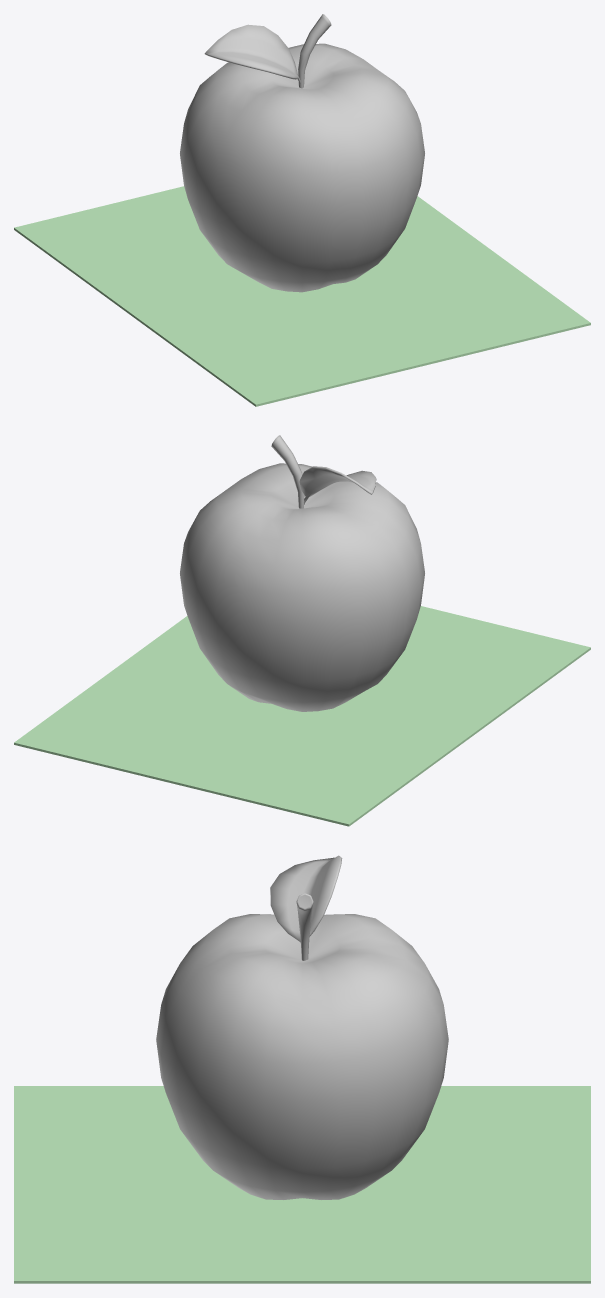
File: prot.fbx
3 renders of one model, top to bottom at view 1: azimuth 30°, elevation 25°; view 2: azimuth 150°, elevation 25°; view 3: azimuth 270°, elevation 25°, orthographic. The views are drawn at different scales.
Parts seen in each view (by area): view 1: 0 dodai, Apple; view 2: 0 dodai, Apple; view 3: 0 dodai, Apple.
Part boxes in pixels (box(x1,y1,x2,y2)): 0 dodai: box(14, 186, 590, 406); Apple: box(180, 14, 424, 292); 0 dodai: box(14, 606, 590, 826); Apple: box(180, 435, 424, 711); 0 dodai: box(14, 1086, 590, 1283); Apple: box(156, 855, 448, 1199).
Size of the model in its own units: 320 by 234 by 400.
